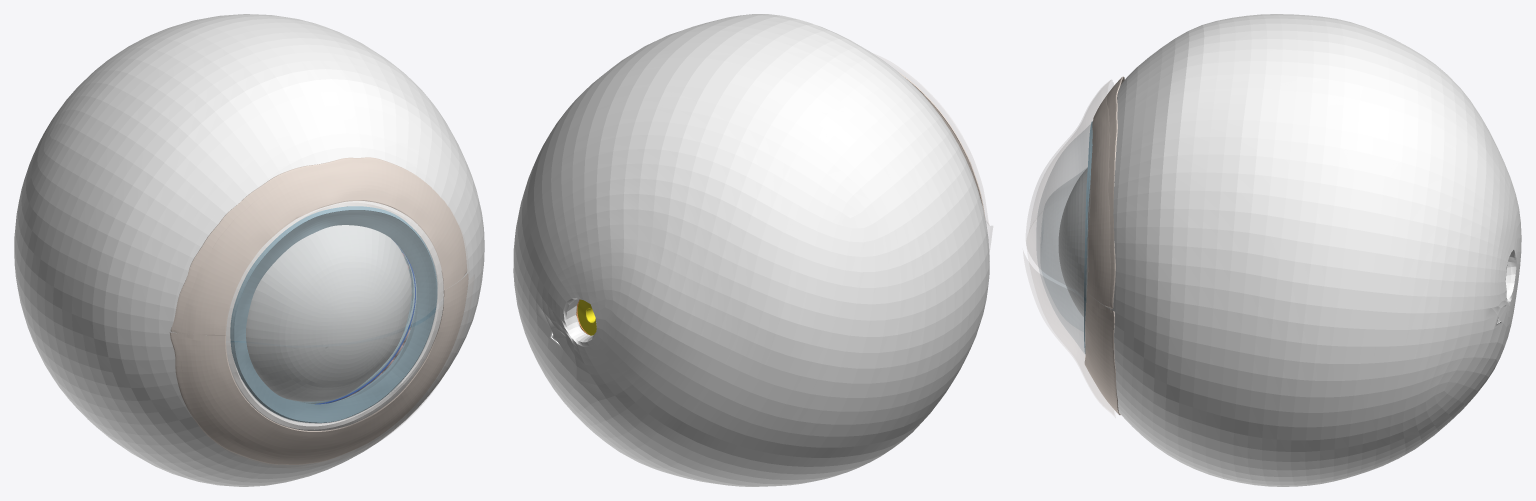
Rendered from eye.glb.
The picture shows the model from 3 angles, left to right: view 1: azimuth 30°, elevation 25°; view 2: azimuth 150°, elevation 25°; view 3: azimuth 270°, elevation 25°; orthographic projection.
Parts seen in each view (by area): view 1: VH_M_sclera_R, VH_M_palpebral_conjunctiva_of_upper_eyelid_R, VH_M_cornea_R, VH_M_bulbar_conjunctiva_R, VH_M_palpebral_conjunctiva_of_lower_eyelid_R, VH_M_aqueous_humor_R, VH_M_corneo_scleral_junction_R, VH_M_trabecular_meshwork_R; view 2: VH_M_sclera_R, VH_M_palpebral_conjunctiva_of_upper_eyelid_R; view 3: VH_M_sclera_R, VH_M_palpebral_conjunctiva_of_upper_eyelid_R, VH_M_bulbar_conjunctiva_R, VH_M_cornea_R, VH_M_palpebral_conjunctiva_of_lower_eyelid_R, VH_M_aqueous_humor_R, VH_M_corneo_scleral_junction_R.
Boxes of the visible parts, x1,y1,x2,y2 form: VH_M_sclera_R: (14,14,484,486); VH_M_palpebral_conjunctiva_of_upper_eyelid_R: (177,162,469,344); VH_M_cornea_R: (231,207,437,422); VH_M_bulbar_conjunctiva_R: (169,157,468,464); VH_M_palpebral_conjunctiva_of_lower_eyelid_R: (174,275,474,467); VH_M_aqueous_humor_R: (246,225,411,401); VH_M_corneo_scleral_junction_R: (230,206,437,423); VH_M_trabecular_meshwork_R: (287,242,416,403); VH_M_sclera_R: (513,14,989,486); VH_M_palpebral_conjunctiva_of_upper_eyelid_R: (875,54,988,224); VH_M_sclera_R: (1085,14,1521,486); VH_M_palpebral_conjunctiva_of_upper_eyelid_R: (1026,80,1113,311); VH_M_bulbar_conjunctiva_R: (1084,76,1124,414); VH_M_cornea_R: (1037,124,1091,353); VH_M_palpebral_conjunctiva_of_lower_eyelid_R: (1023,220,1115,417); VH_M_aqueous_humor_R: (1058,168,1087,316); VH_M_corneo_scleral_junction_R: (1084,121,1092,353).
Size of the model in its own units: 0.0245 by 0.0244 by 0.0257.
